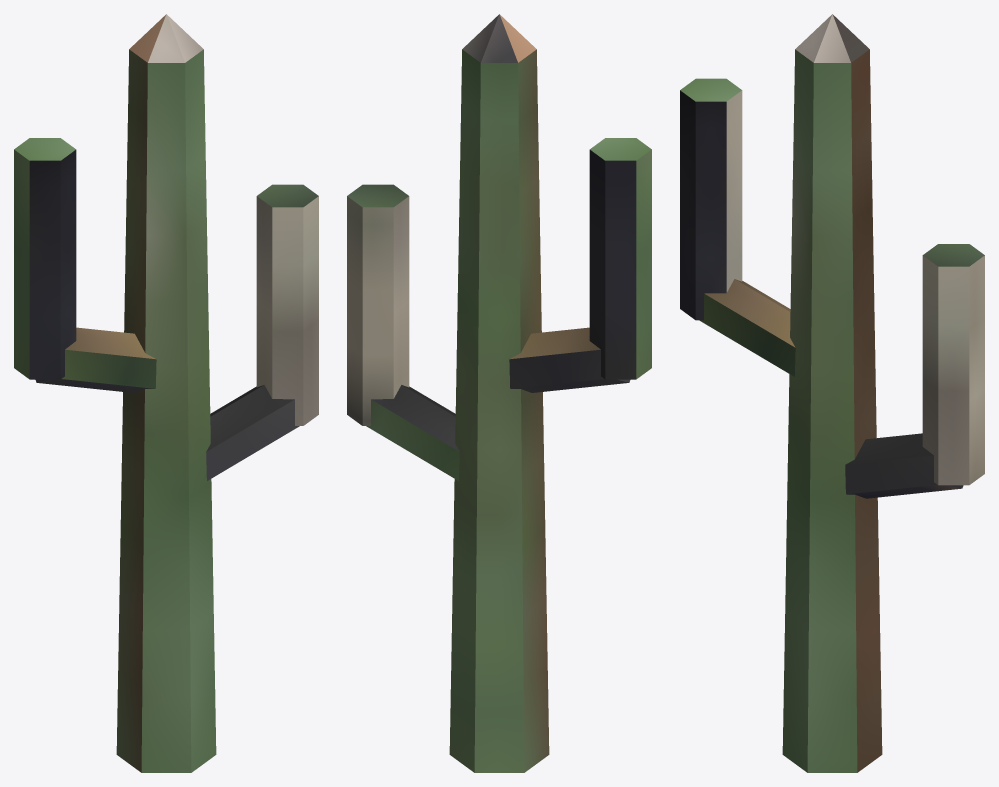
Rendered from SM_Cactus_A.fbx.
3 renders of one model, left to right at view 1: azimuth 30°, elevation 25°; view 2: azimuth 150°, elevation 25°; view 3: azimuth 330°, elevation 25°, orthographic.
Visible parts, largest first — view 1: SM_Cactus_A; view 2: SM_Cactus_A; view 3: SM_Cactus_A.
Part boxes in pixels (box(x1,y1,x2,y2)): SM_Cactus_A: box(14, 14, 318, 772); SM_Cactus_A: box(347, 14, 651, 772); SM_Cactus_A: box(680, 14, 984, 772).
Bounding box in the file's own units: 215 × 525 × 64.
Materials: 1 (1 with a texture image).
